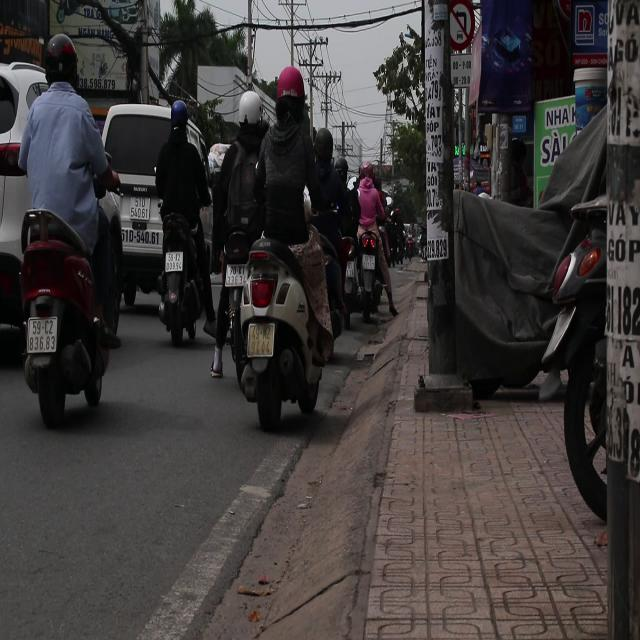car: (71, 66, 223, 296)
motorbike: (213, 213, 341, 430), (12, 196, 121, 427), (209, 193, 261, 383), (154, 217, 211, 348), (312, 208, 363, 330), (353, 218, 395, 338)
